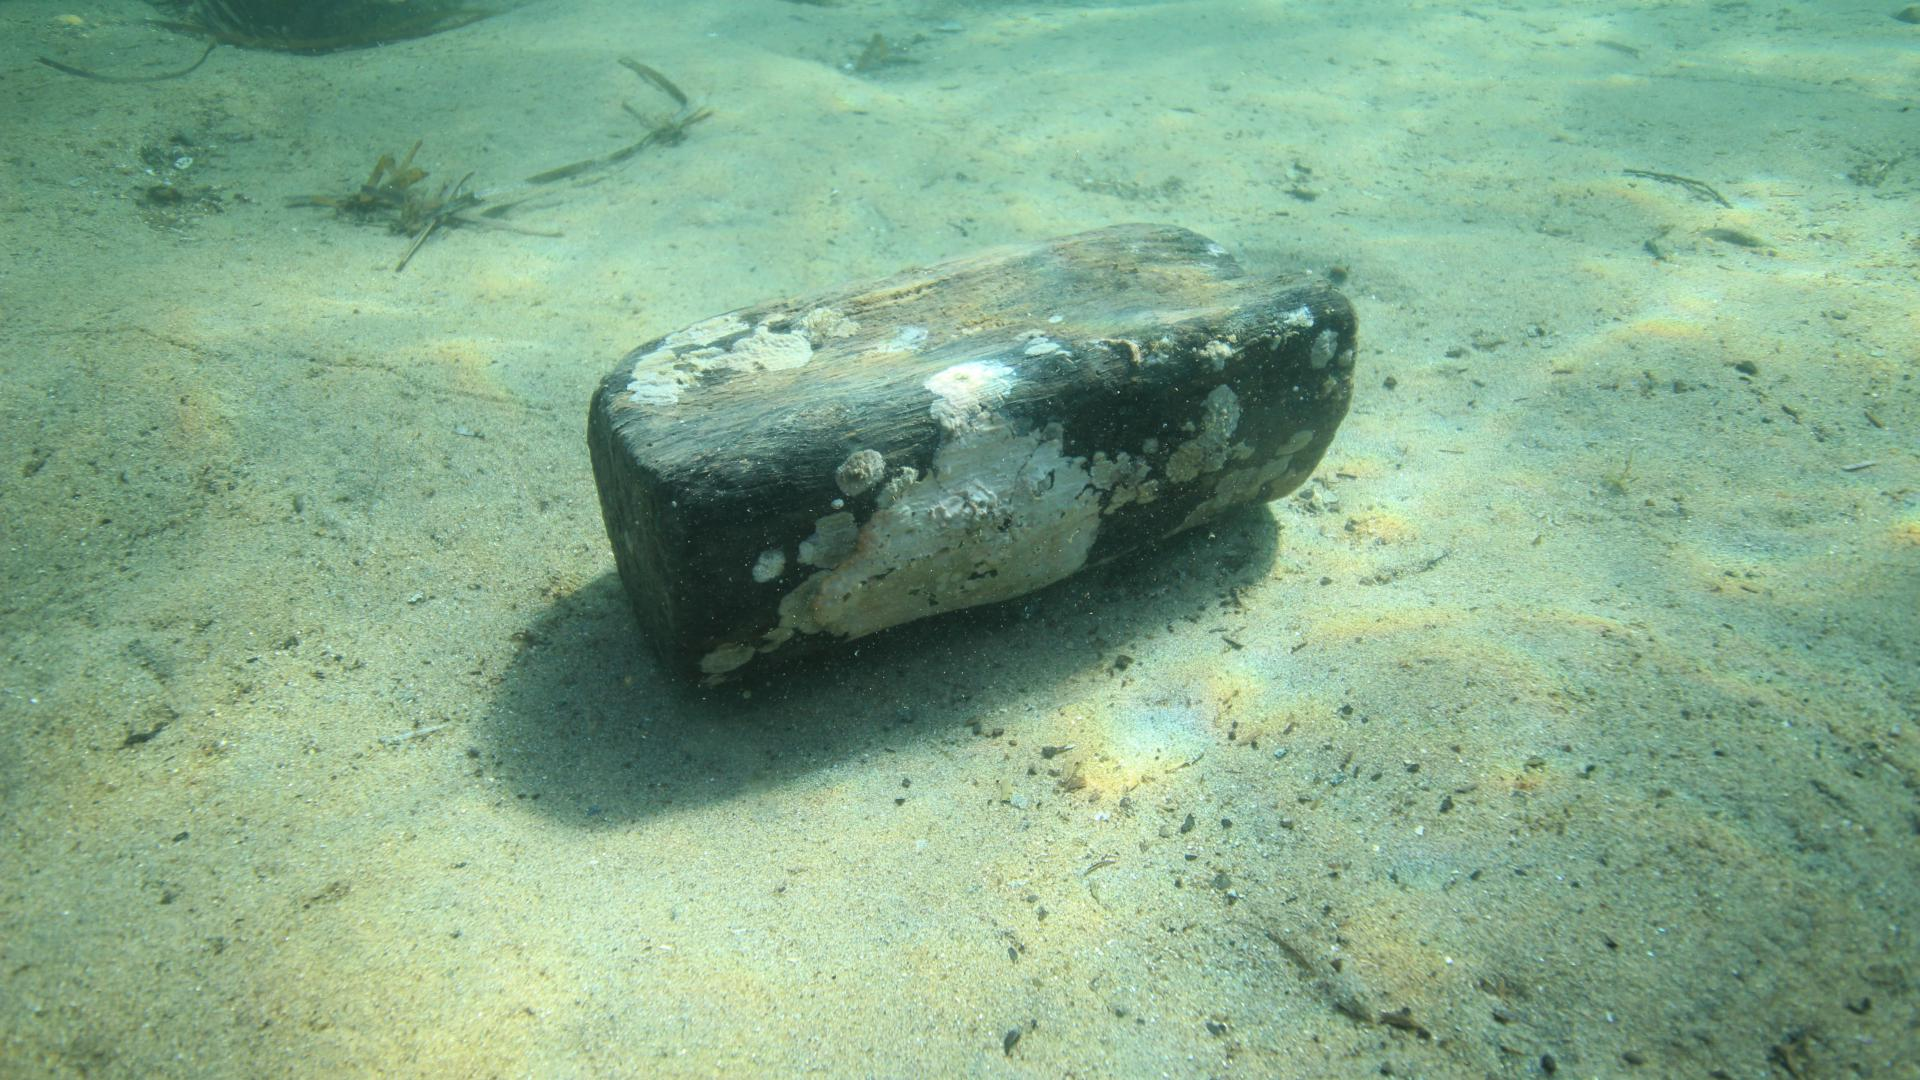wood: (585, 225, 1356, 709)
